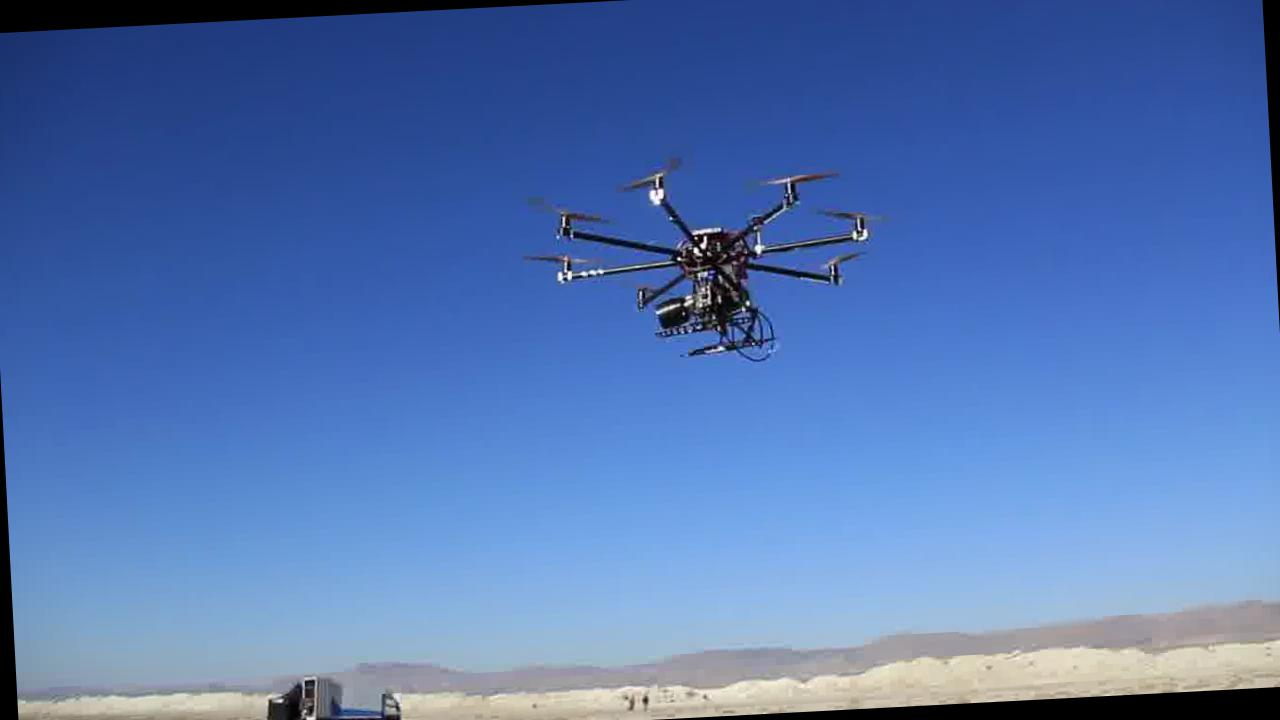drone: (527, 138, 881, 374)
